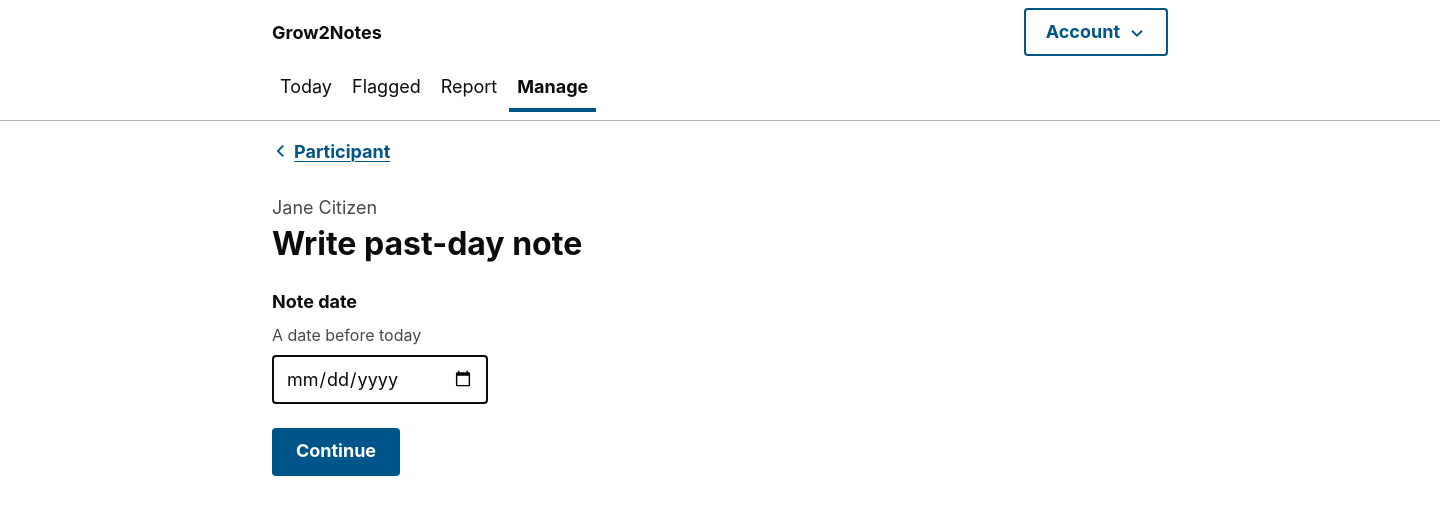
Scenario: Write past-day note › says "Enter the note date" for an empty date, above the field, which it focuses, and sends nothing
The image size is (1440, 527).
Clear the date field labelled "Note date" at (380, 379), box x1=272 y1=354 x2=488 y2=404
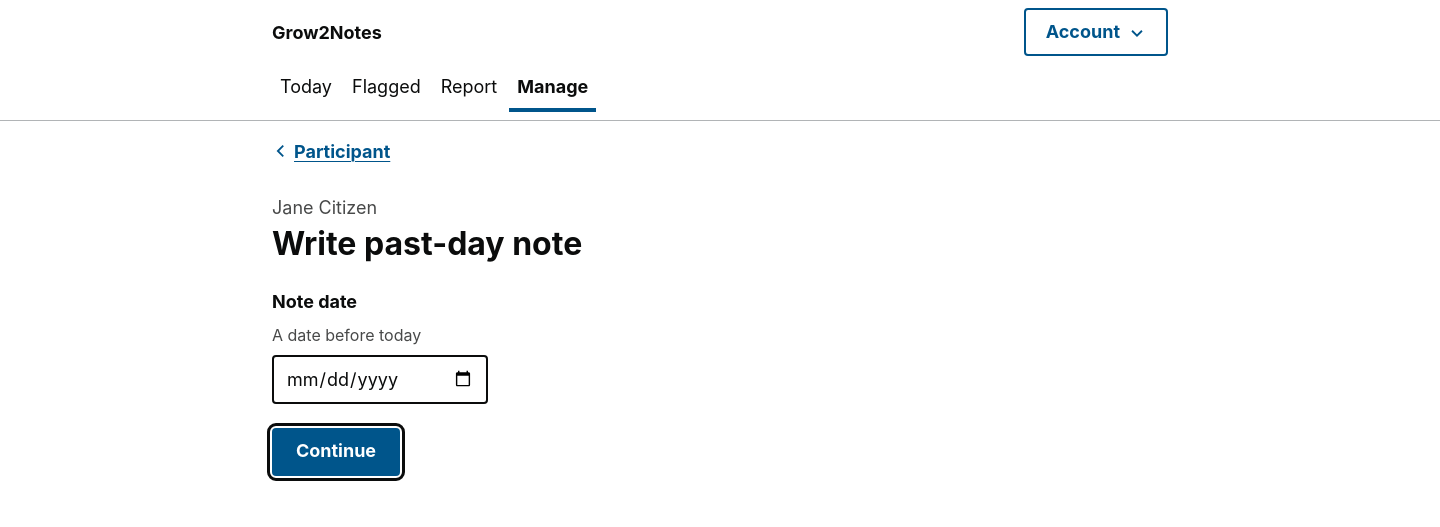
Click the button "Continue" at (336, 452), box x1=272 y1=428 x2=400 y2=476
Wait 1 ms
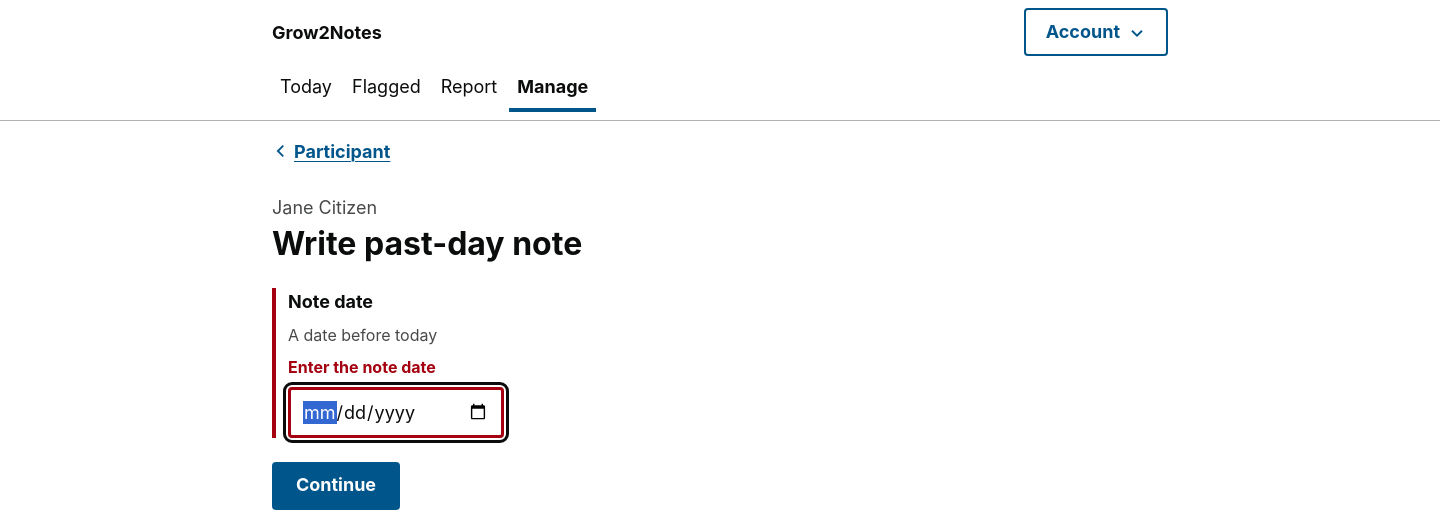
expect the element showing "Enter the note date" is shown: met, box x1=287 y1=356 x2=436 y2=376
